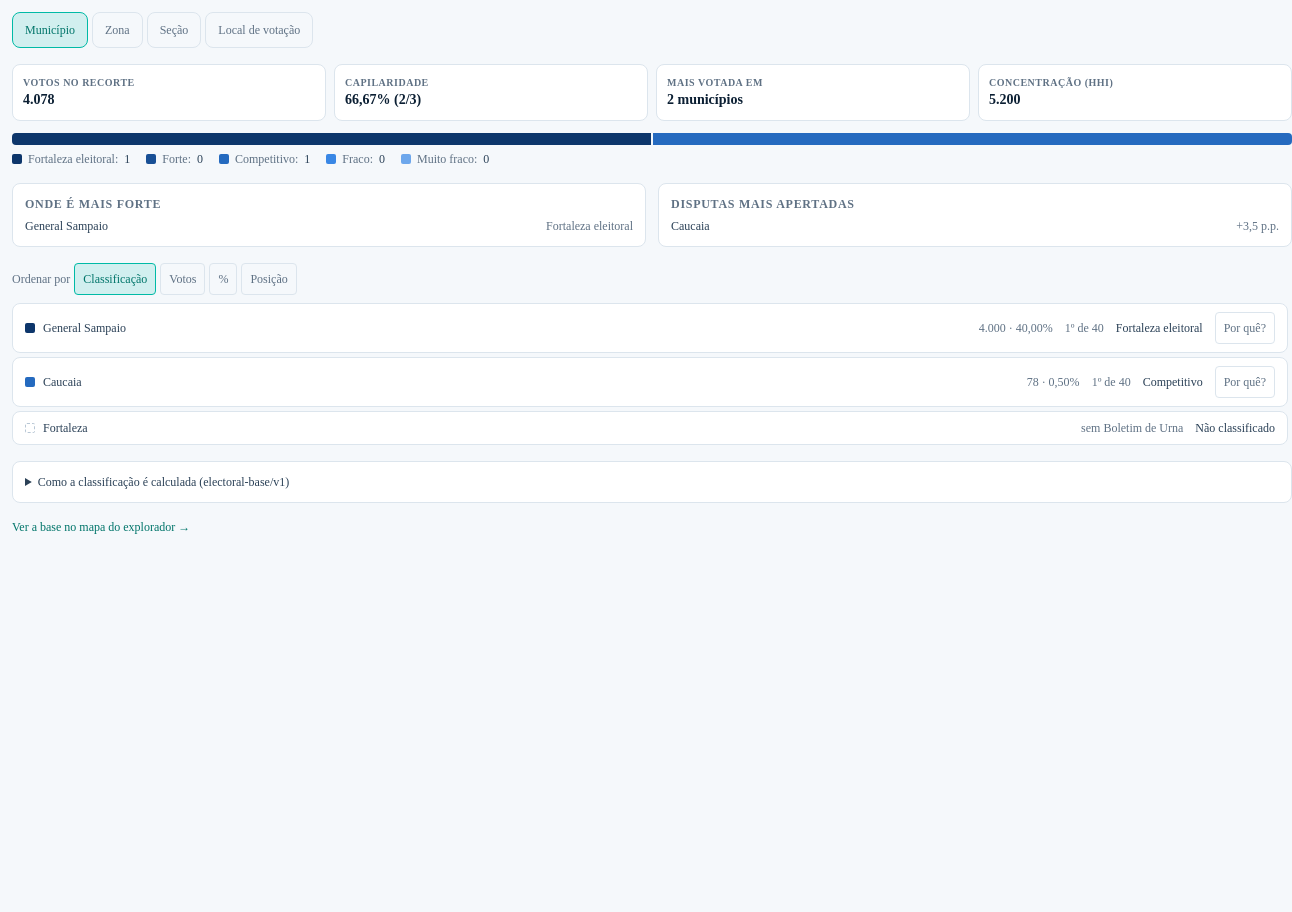
Base Eleitoral — painel › classe, decomposição e versão da fórmula; território sem BU não é classificado nem vira zero
This screenshot has width=1292, height=912.
Check: the list item "Fortaleza sem Boletim de Urna Não classificado" is shown, box [12,411,1288,445]
Click the button "Por quê?" in the row of "4.000 · 40,00%" at (1245, 328), box [1215,312,1275,344]
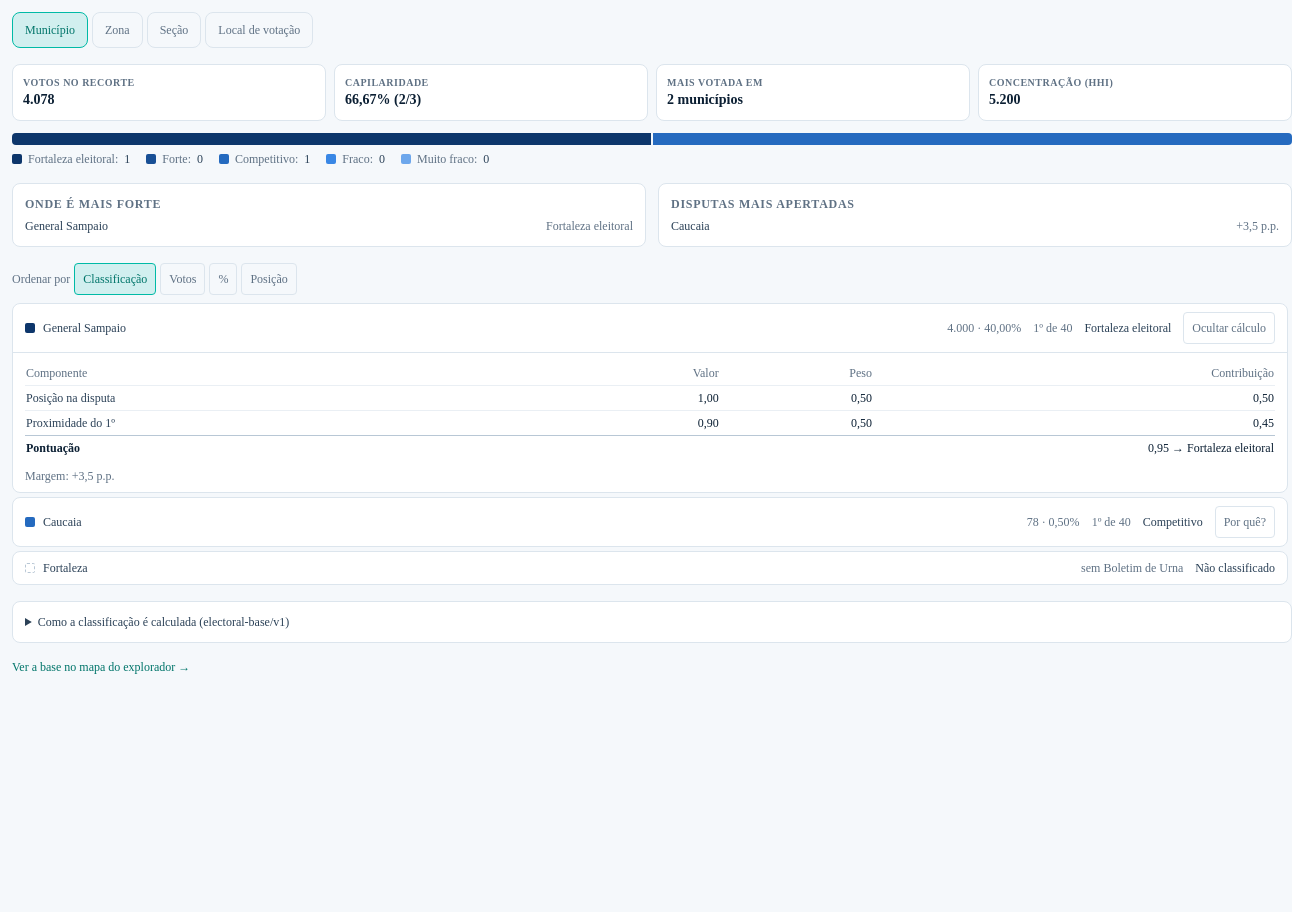
Check: the element with test id "base-decomposition" shows "Posição na disputa", box [26,391,115,405]
Check: the element with test id "base-decomposition" shows "Proximidade do 1º", box [26,416,115,430]
Check: the element with test id "base-decomposition" shows "Fortaleza eleitoral", box [1187,441,1274,455]
